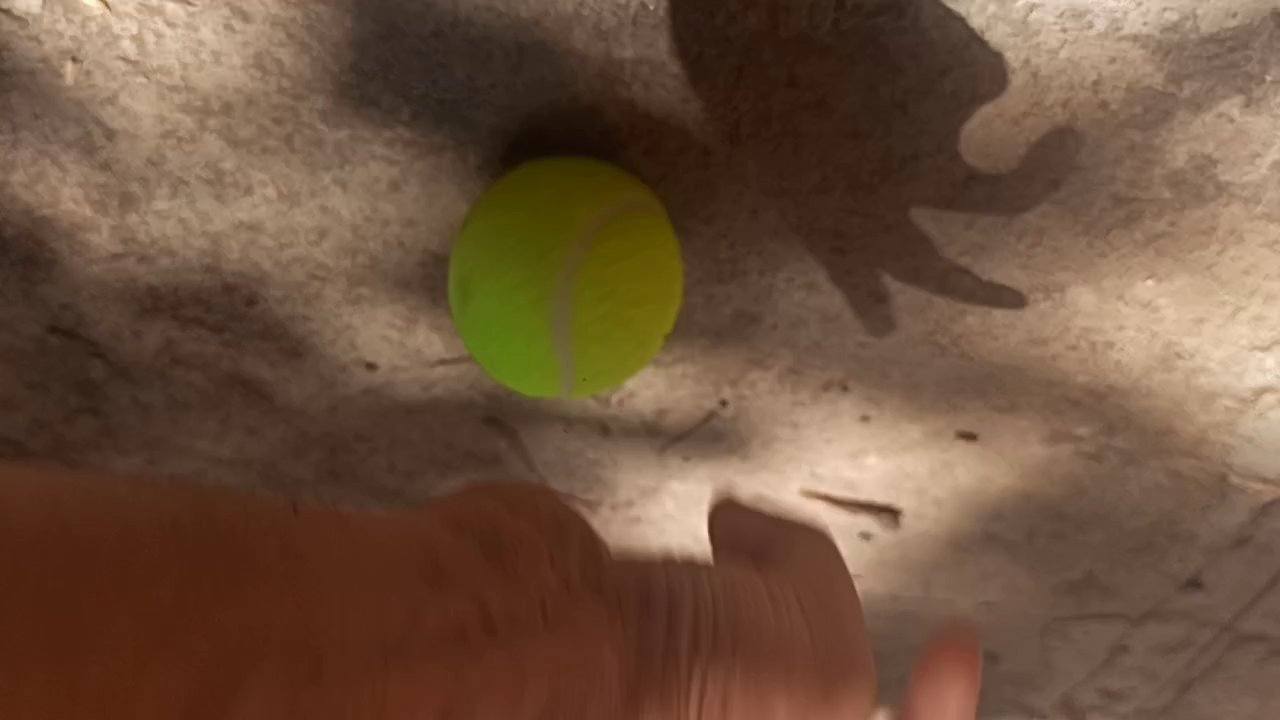Tennis-Ball: (448, 155, 684, 398)
